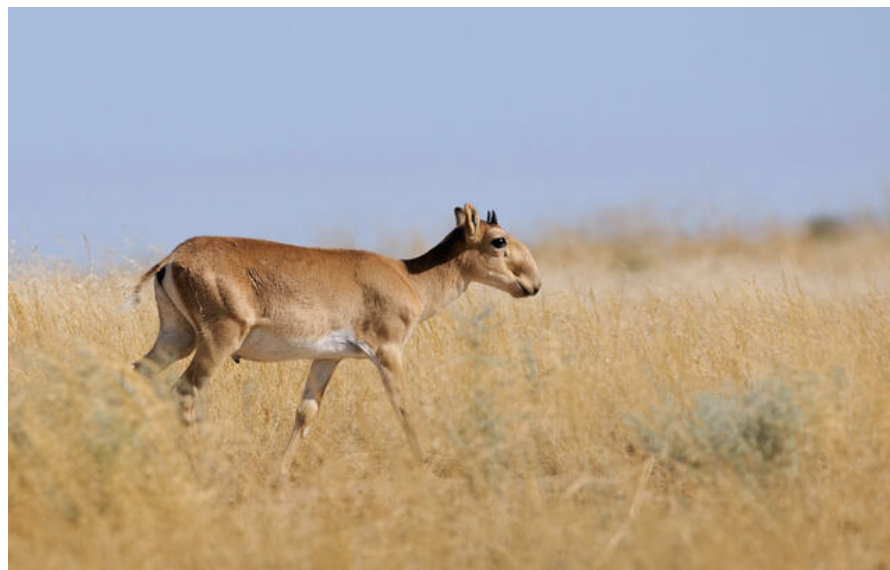saiga: (119, 207, 553, 464)
